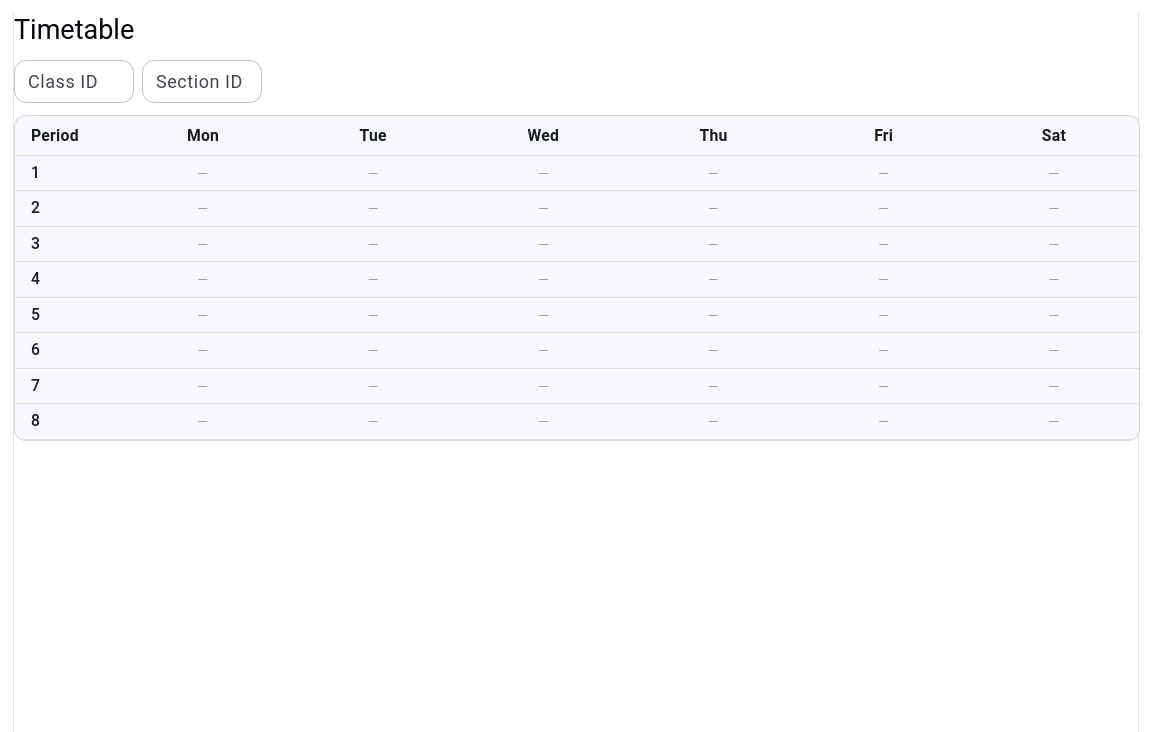
Timetable integration › renders timetable grid after selecting class and section
# Set classId and sectionId inputs
Type "1" into the number field labelled "Class ID".
click(74, 81); type("1")  # box [14,60,134,103]
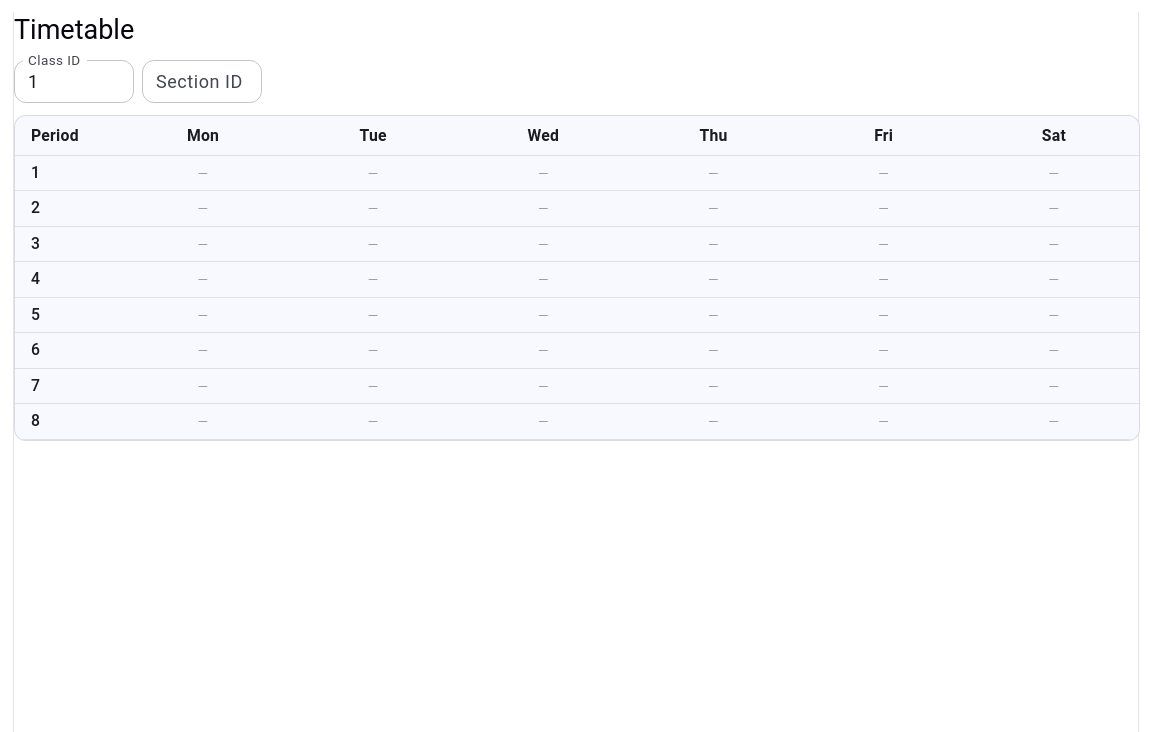
Type "1" into the number field labelled "Section ID".
click(202, 81); type("1")  # box [142,60,262,103]
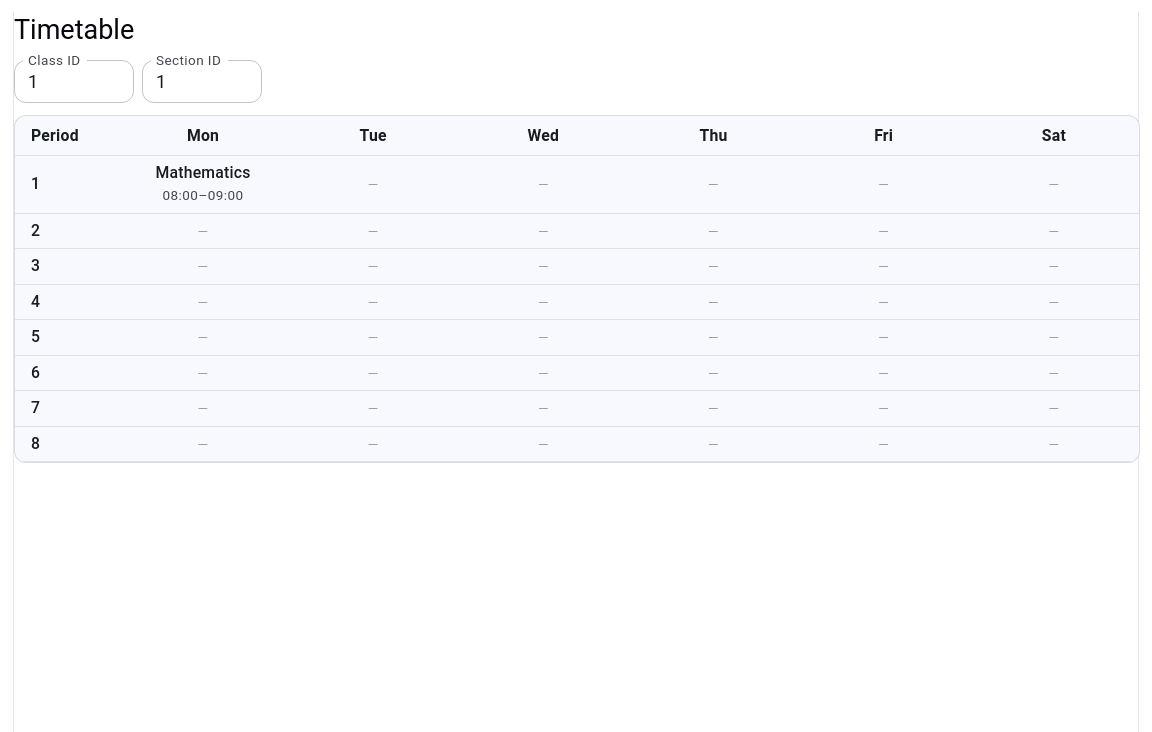
Now the text "Mathematics" is shown, box [155,163,251,182]
